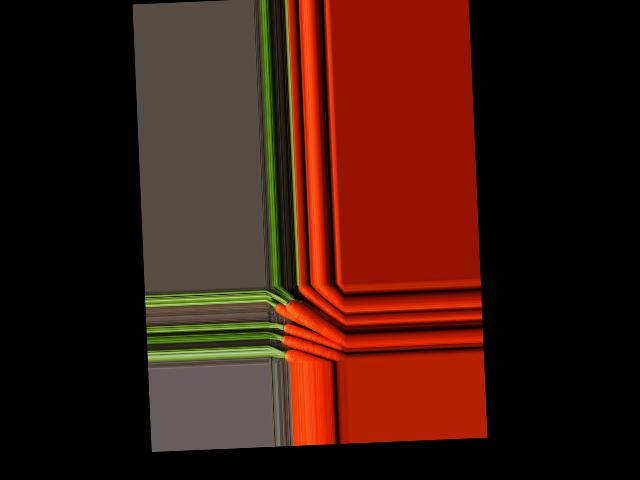carrot: (298, 283, 345, 322)
